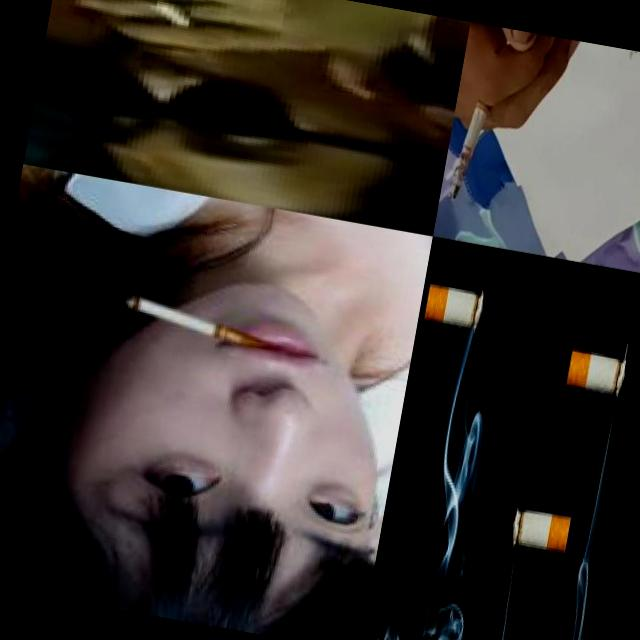smoke: (119, 292, 282, 356), (446, 76, 500, 203), (564, 344, 628, 402), (422, 279, 485, 334), (508, 504, 572, 554), (146, 0, 214, 35)
